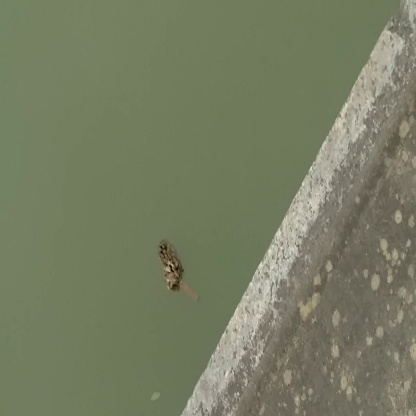leaf: (153, 236, 212, 312)
